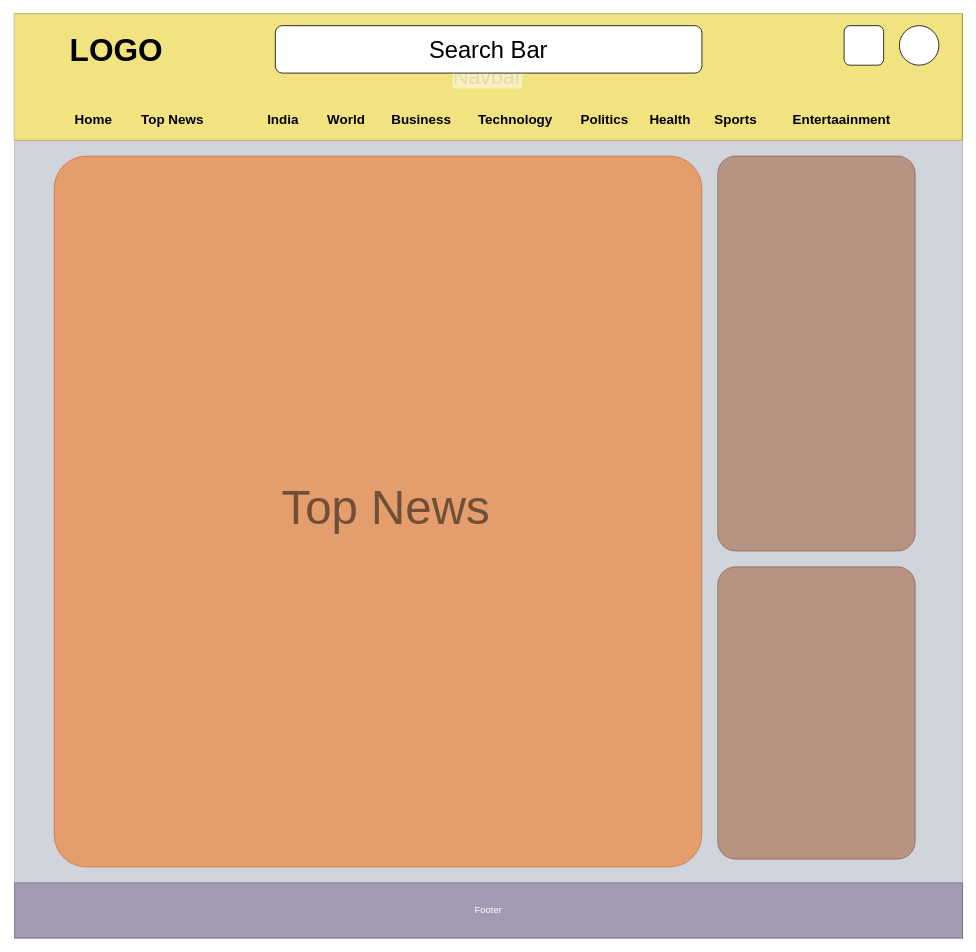
The diagram is 976 pixels wide and 952 high, and some of its shapes have lost their labels. Each missing label, with the centre of its shape:
Local News: pixel 816 712
Weather / Stock market: pixel 816 353
